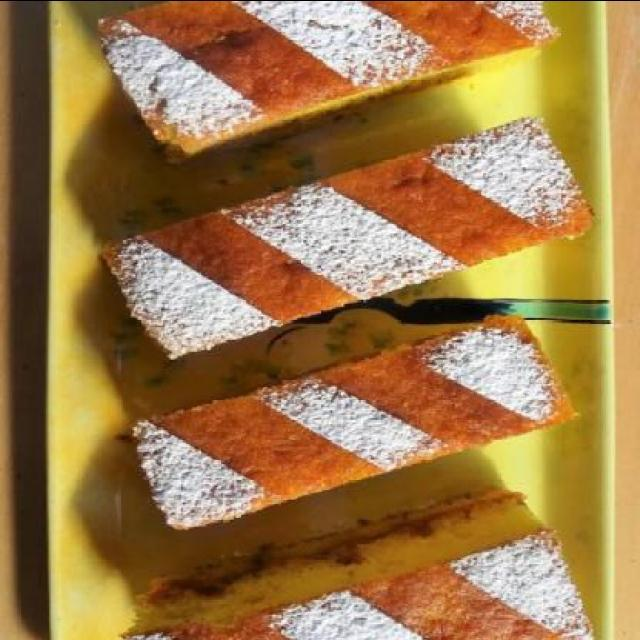Merendine packaged: (100, 115, 594, 359), (124, 306, 562, 528), (99, 1, 556, 144)
